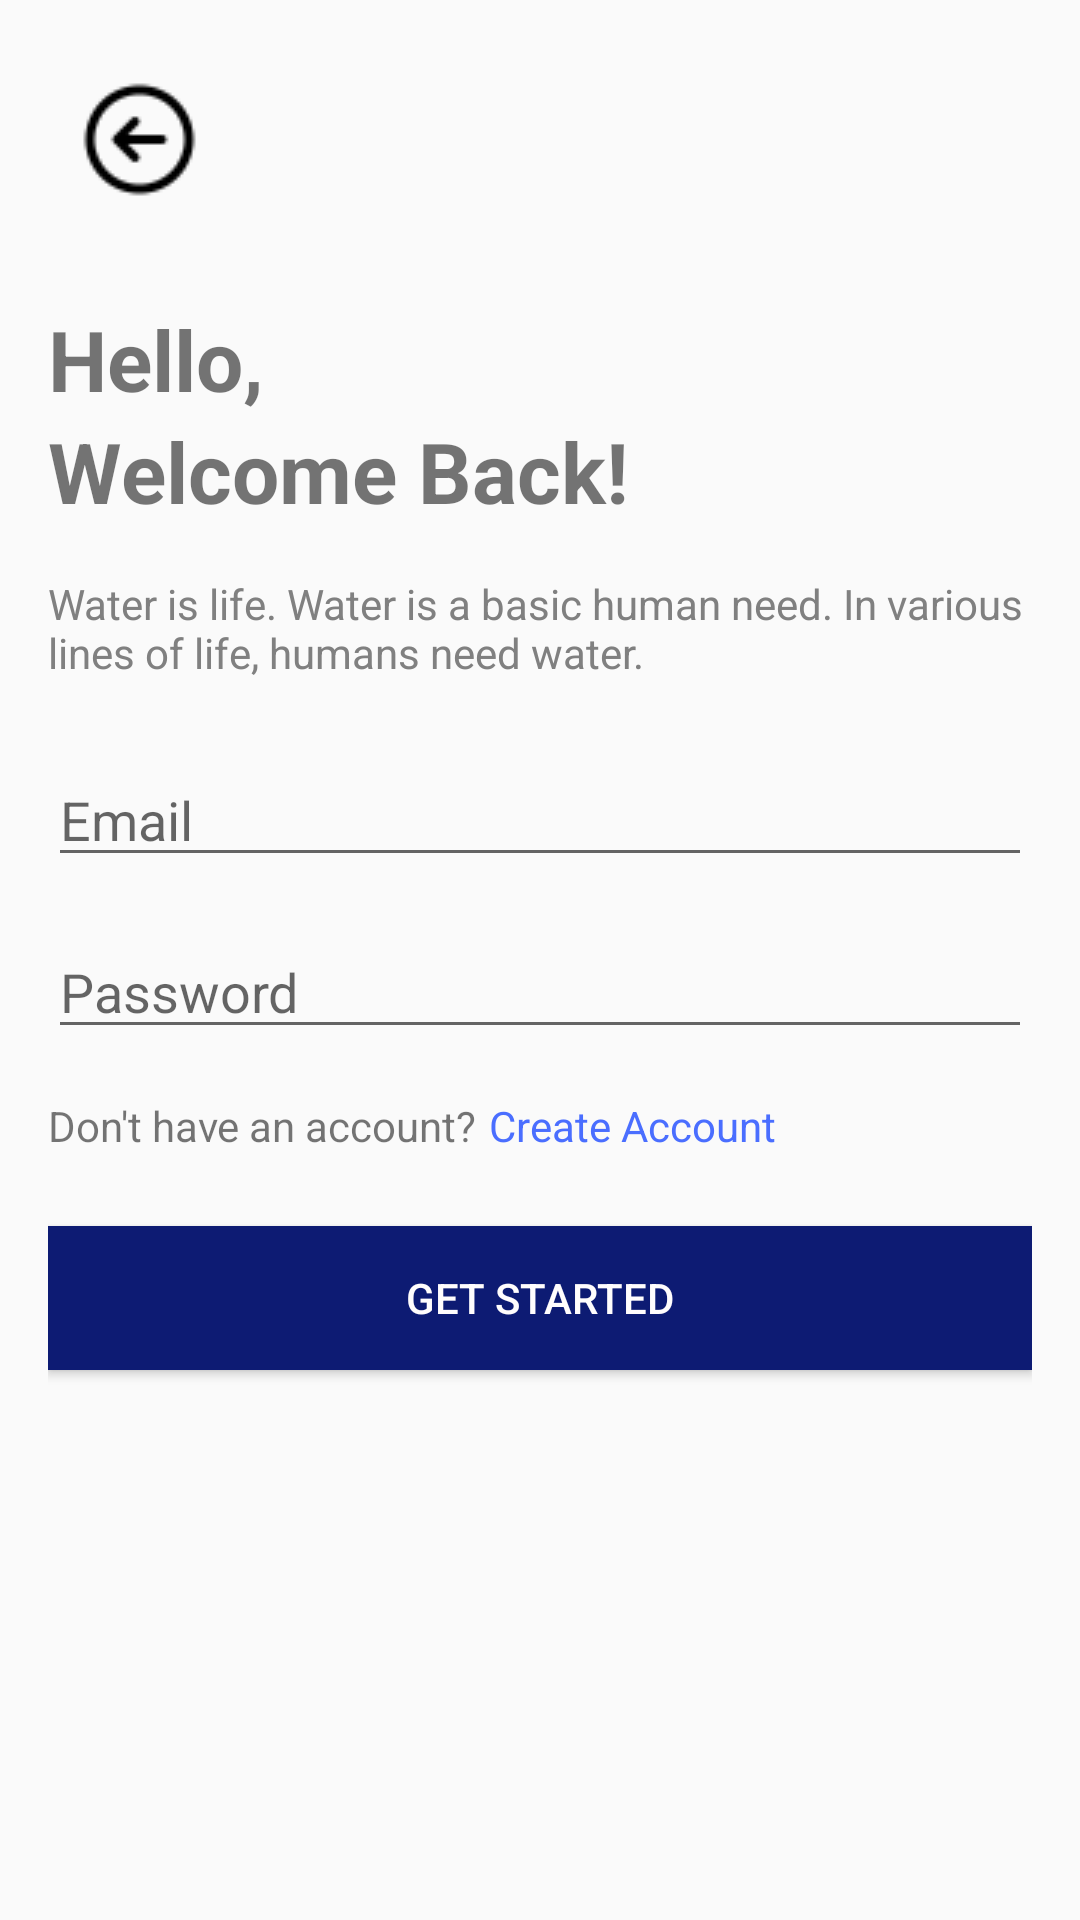

Screen size 1080 x 1920. Icon name, then its box in pixels as (x1, y1, x2, y2):
back arrow: (83, 83, 196, 196)
